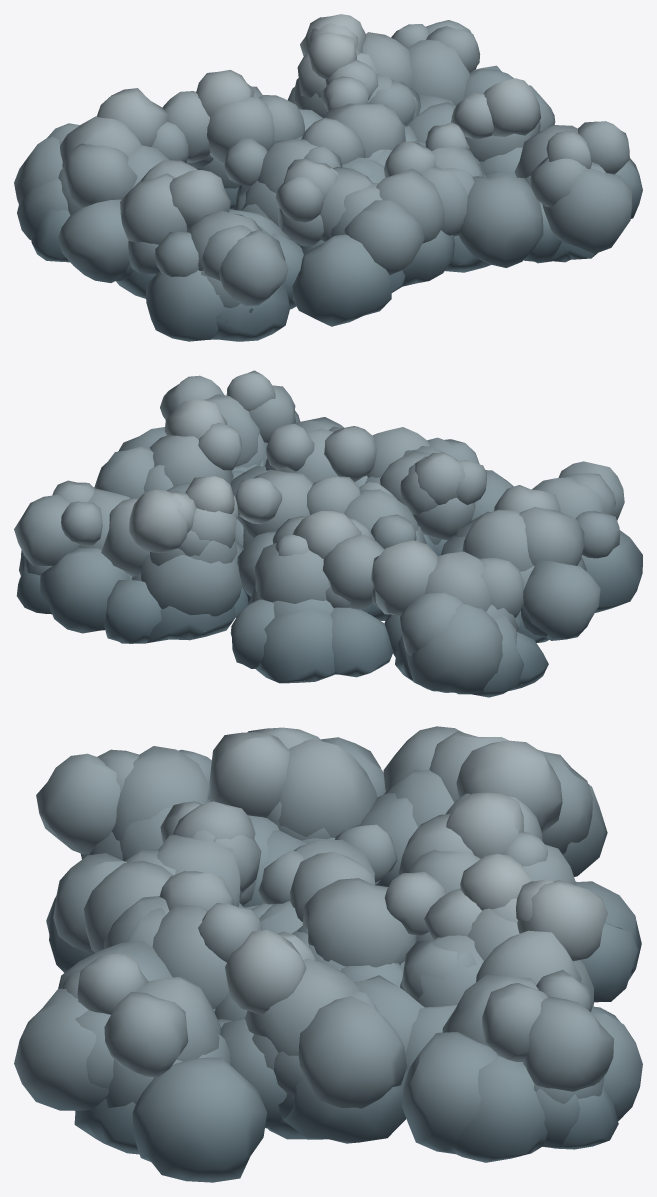
File: awan_awan_mendung.glb
3 views of the same model, one above another, from view 1: azimuth 30°, elevation 25°; view 2: azimuth 150°, elevation 25°; view 3: azimuth 270°, elevation 25° (orthographic). The views are drawn at different scales.
Parts seen in each view (by area): view 1: awan_mendung; view 2: awan_mendung; view 3: awan_mendung.
Boxes of the visible parts, left/top/right/bottom form: awan_mendung: left=14, top=14, right=642, bottom=341; awan_mendung: left=14, top=370, right=642, bottom=697; awan_mendung: left=14, top=726, right=642, bottom=1182.
Size of the model in its own units: 2427 by 654 by 1823.
